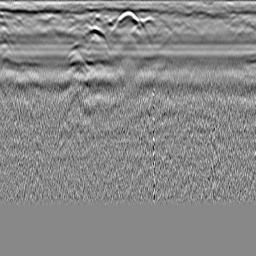cavity: (117, 9, 138, 29)
